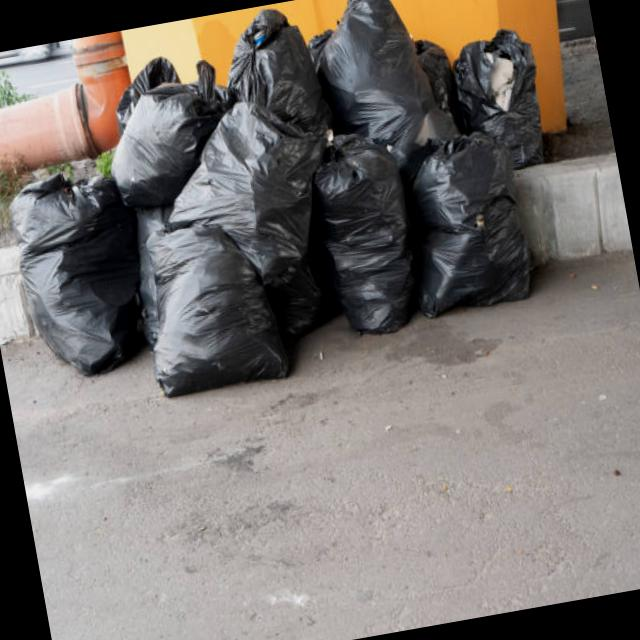garbage: (0, 0, 612, 428)
